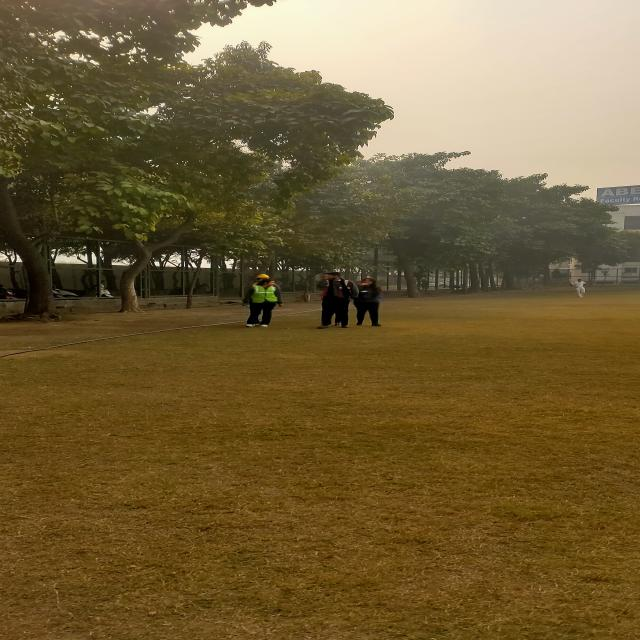safe: (243, 274, 281, 327)
unsafe: (319, 272, 353, 328), (356, 276, 384, 326)
